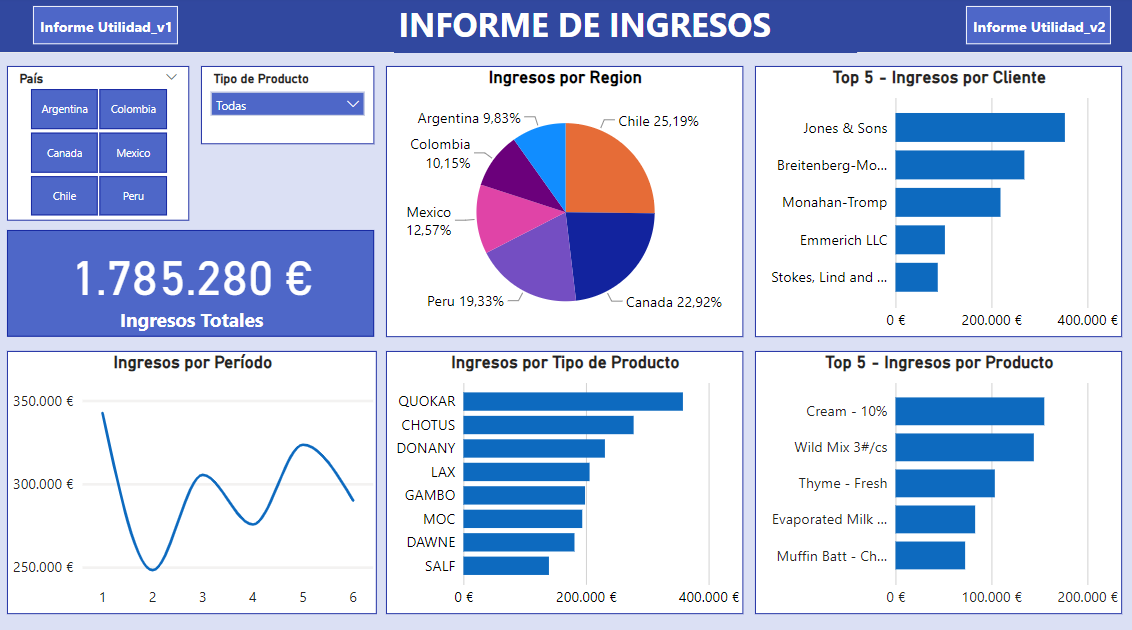

The dashboard page shown, as its layout file describes it:
{"tool":"powerbi","page":{"name":"Informe Ingresos","canvas":[1280,720],"ordinal":4},"visuals":[{"type":"card","fields":{"Values":["Sum(TablaFinanzas.Ingresos)"]},"box":[10.1,262.1,412.9,120.4],"z":0},{"type":"lineChart","title":"Ingresos por Período","fields":{"Category":["TablaFinanzas.Período"],"Y":["Sum(TablaFinanzas.Ingresos)"]},"box":[10.1,398.2,416.2,295.9],"z":1000},{"type":"pieChart","title":"Ingresos por Region","fields":{"Category":["LookupsCliente.Region"],"Y":["Sum(TablaFinanzas.Ingresos)"]},"box":[436.5,77.6,401.6,304.9],"z":2000},{"type":"barChart","title":"Ingresos por Tipo de Producto","fields":{"Category":["LookupsProducto.Tipo de Producto"],"Y":["Sum(TablaFinanzas.Ingresos)"]},"box":[436.5,398.2,401.6,295.9],"z":3000},{"type":"barChart","title":"Top 5 - Ingresos por Cliente","fields":{"Category":["TablaFinanzas.Cliente"],"Y":["Sum(TablaFinanzas.Ingresos)"]},"box":[851.6,77.6,412.9,304.9],"z":4000},{"type":"barChart","title":"Top 5 - Ingresos por Producto","fields":{"Category":["TablaFinanzas.Producto"],"Y":["Sum(TablaFinanzas.Ingresos)"]},"box":[851.6,398.2,412.9,295.9],"z":5000},{"type":"slicer","fields":{"Values":["LookupsCliente.Region"]},"box":[10.1,77.6,204.8,174.4],"z":6000},{"type":"slicer","fields":{"Values":["LookupsProducto.Tipo de Producto"]},"box":[228.4,77.6,194.6,87.8],"z":7000},{"type":"shape","box":[0,0,1280.2,63],"z":8000},{"type":"textbox","box":[445.5,0,520.9,63],"z":9500},{"type":"actionButton","box":[1089,10.1,163.1,42.8],"z":9501},{"type":"actionButton","box":[39.4,10.1,163.1,42.8],"z":9502}]}

Visuals, with their boxes in screenshot pixels (x1, y1, x2, y2), scaled from the page's 1280x720 canvas onto the 1132x630 screenshot:
card - Sum(TablaFinanzas.Ingresos): (x1=9, y1=229, x2=374, y2=335)
"Ingresos por Período" lineChart: (x1=9, y1=348, x2=377, y2=607)
"Ingresos por Region" pieChart: (x1=386, y1=68, x2=741, y2=335)
"Ingresos por Tipo de Producto" barChart: (x1=386, y1=348, x2=741, y2=607)
"Top 5 - Ingresos por Cliente" barChart: (x1=753, y1=68, x2=1118, y2=335)
"Top 5 - Ingresos por Producto" barChart: (x1=753, y1=348, x2=1118, y2=607)
slicer - LookupsCliente.Region: (x1=9, y1=68, x2=190, y2=220)
slicer - LookupsProducto.Tipo de Producto: (x1=202, y1=68, x2=374, y2=145)
shape: (x1=0, y1=0, x2=1131, y2=55)
textbox: (x1=394, y1=0, x2=855, y2=55)
actionButton: (x1=963, y1=9, x2=1107, y2=46)
actionButton: (x1=35, y1=9, x2=179, y2=46)
